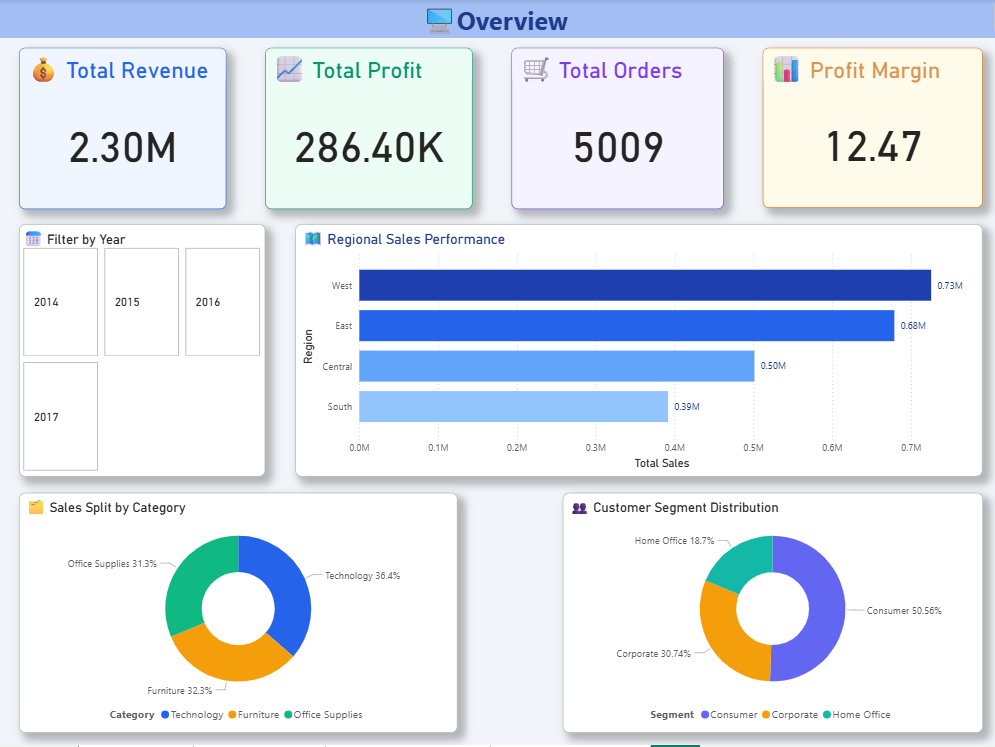

The dashboard page shown, as its layout file describes it:
{"tool":"powerbi","page":{"name":"Overview","canvas":[1280,950],"ordinal":0},"visuals":[{"type":"donutChart","title":"👥 Customer Segment Distribution","fields":{"Category":["superstore_clean.Segment"],"Y":["superstore_clean.Total Sales"]},"box":[717.9,628.8,534.9,305.6],"z":0},{"type":"donutChart","title":"🗂️ Sales Split by Category","fields":{"Category":["superstore_clean.Category"],"Y":["superstore_clean.Total Sales"]},"box":[25.5,628.8,558.7,305.6],"z":1000},{"type":"clusteredBarChart","title":"🗺️ Regional Sales Performance","fields":{"Category":["superstore_clean.Region"],"Y":["superstore_clean.Total Sales"]},"box":[377.3,286.5,875.5,321.5],"z":2000},{"type":"advancedSlicerVisual","title":"📅 Filter by Year","fields":{"Values":["Date Table.Year"]},"box":[25,286.5,313.6,321.5],"z":3000},{"type":"card","title":"💰 Total Revenue","fields":{"Values":["superstore_clean.Total Sales"]},"box":[25.5,62.1,264.2,205.3],"z":4000},{"type":"card","title":"📈 Total Profit","fields":{"Values":["superstore_clean.Total Profit"]},"box":[339.1,62.1,264.2,205.3],"z":5000},{"type":"card","title":"🛒 Total Orders","fields":{"Values":["superstore_clean.Total Orders"]},"box":[652.7,62.1,270.6,205.3],"z":6000},{"type":"card","title":"📊 Profit Margin","fields":{"Values":["superstore_clean.Profit Margin %"]},"box":[972.6,62.1,280.2,203.8],"z":7000},{"type":"textbox","box":[0,0,1279.8,49.3],"z":8000}]}

Visuals, with their boxes in screenshot pixels (x1, y1, x2, y2), scaled from the page's 1280x950 canvas onto the 995x747 screenshot:
"👥 Customer Segment Distribution" donutChart: box=[558, 494, 974, 735]
"🗂️ Sales Split by Category" donutChart: box=[20, 494, 454, 735]
"🗺️ Regional Sales Performance" clusteredBarChart: box=[293, 225, 974, 478]
"📅 Filter by Year" advancedSlicerVisual: box=[19, 225, 263, 478]
"💰 Total Revenue" card: box=[20, 49, 225, 210]
"📈 Total Profit" card: box=[264, 49, 469, 210]
"🛒 Total Orders" card: box=[507, 49, 718, 210]
"📊 Profit Margin" card: box=[756, 49, 974, 209]
textbox: box=[0, 0, 994, 39]
